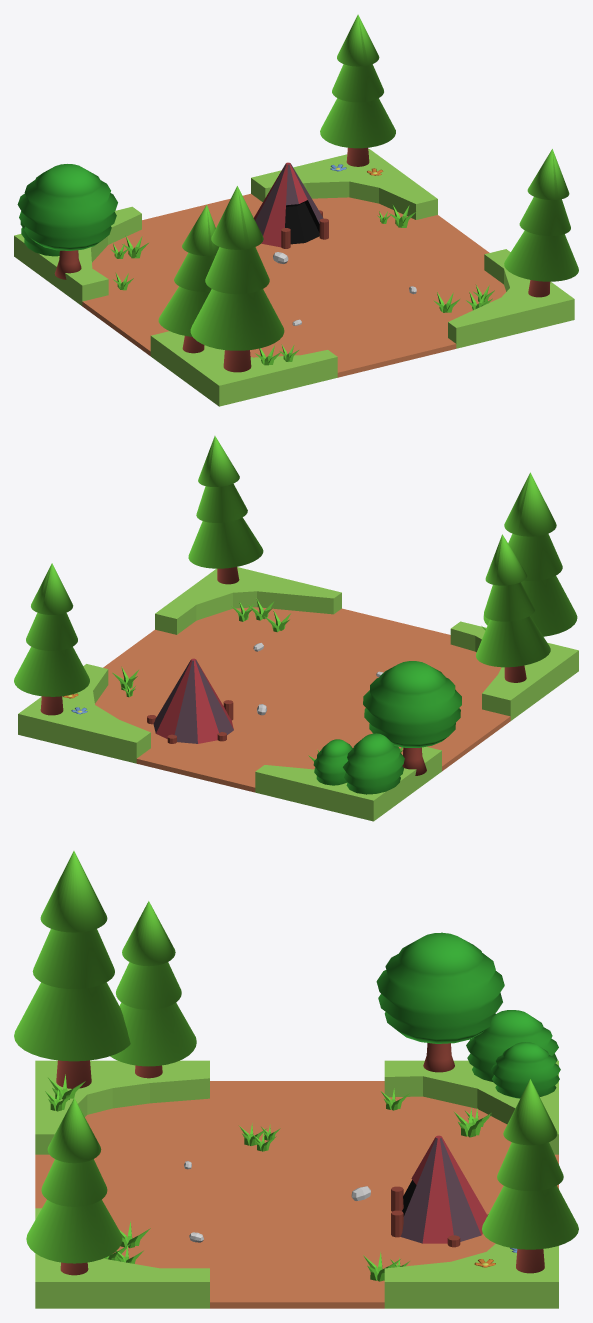
Rendered from jungle level set - 4 Way - wide area.fbx.
3 views of the same model, one above another, from view 1: azimuth 30°, elevation 25°; view 2: azimuth 150°, elevation 25°; view 3: azimuth 270°, elevation 25° (orthographic). The views are drawn at different scales.
Visible parts, largest first — view 1: land_platform_001, tree_006, tree_004, tree_001, tree_000, tree_005, camp; view 2: land_platform_001, tree_004, tree_001, tree_000, tree_005, tree_006, camp, bush_003, bush_001; view 3: land_platform_001, tree_006, tree_004, tree_001, tree_000, tree_005, camp, bush_003, bush_001.
Part boxes in pixels (x1,y1,x2,y2): land_platform_001: (14, 149, 574, 406); tree_006: (190, 186, 284, 372); tree_004: (17, 164, 117, 279); tree_001: (320, 14, 395, 166); tree_000: (504, 149, 578, 297); tree_005: (158, 205, 219, 353); camp: (254, 162, 328, 248); land_platform_001: (18, 567, 578, 821); tree_004: (363, 661, 461, 775); tree_001: (14, 563, 89, 715); tree_000: (188, 436, 263, 584); tree_005: (476, 534, 550, 682); tree_006: (483, 472, 577, 636); camp: (147, 658, 233, 743); bush_003: (343, 733, 404, 794); bush_001: (313, 739, 352, 785); land_platform_001: (35, 1060, 558, 1308); tree_006: (14, 851, 130, 1088); tree_004: (376, 932, 504, 1072); tree_001: (482, 1079, 578, 1273); tree_000: (26, 1098, 122, 1275); tree_005: (110, 901, 196, 1078); camp: (391, 1135, 488, 1247); bush_003: (466, 1010, 558, 1082); bush_001: (491, 1042, 560, 1098).
Bounding box in the file's own units: 17.34 × 8.27 × 16.37.
